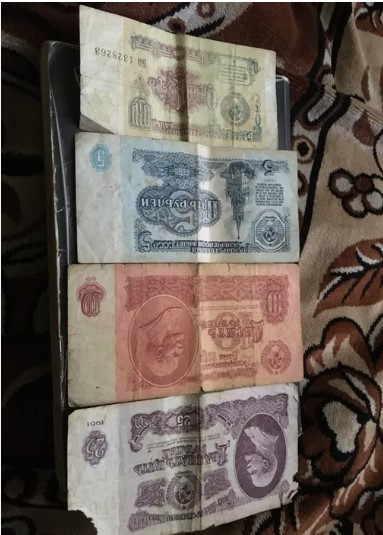cash: (67, 383, 299, 535), (68, 263, 303, 407), (76, 133, 300, 262), (79, 5, 278, 149)
